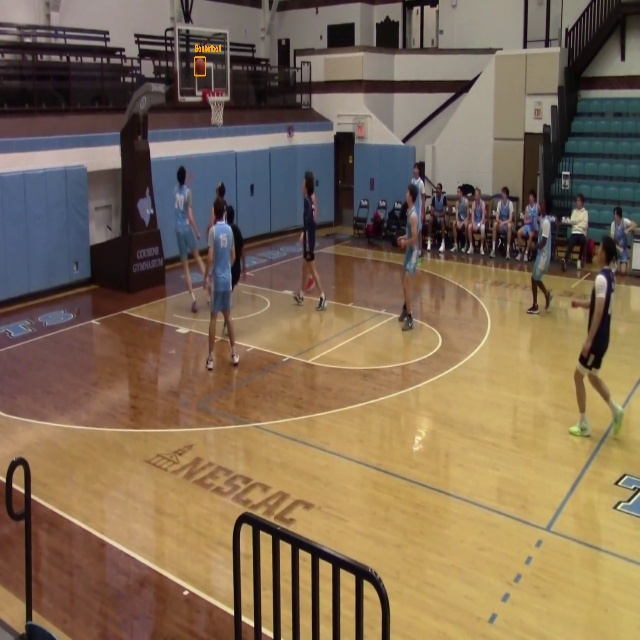Basketball: (195, 57, 205, 76)
